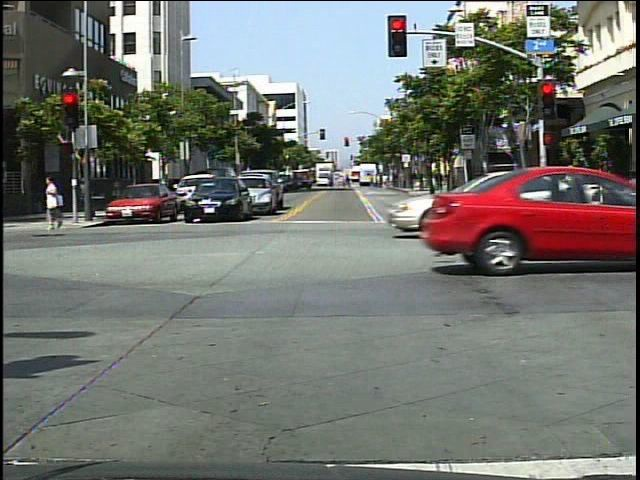person: (39, 171, 71, 234), (559, 161, 582, 212)
